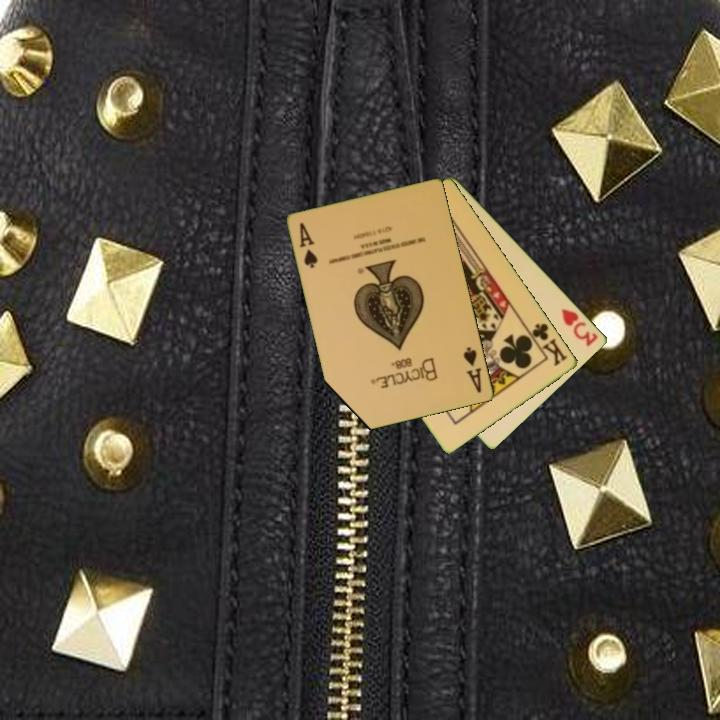3h: (558, 305, 601, 350)
As: (296, 219, 321, 272), (460, 344, 485, 396)
Kc: (524, 319, 571, 369)
